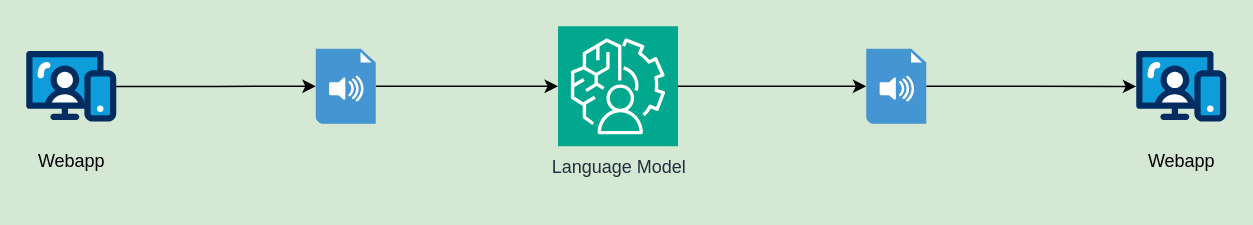
Image size: 1253x225. Some labels were removed from this diagram. The shapes that lost their labels are listed below. From the top down, each one's centre as x and y in pixels, then its label:
At point 345,85: "Audio to text Convertor".
At point 896,85: "Text to Audio Convertor".
